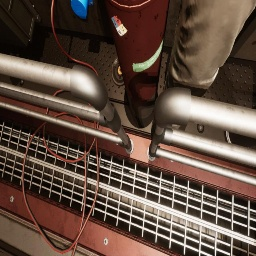NitrogenTank ,: (104, 0, 170, 119)
